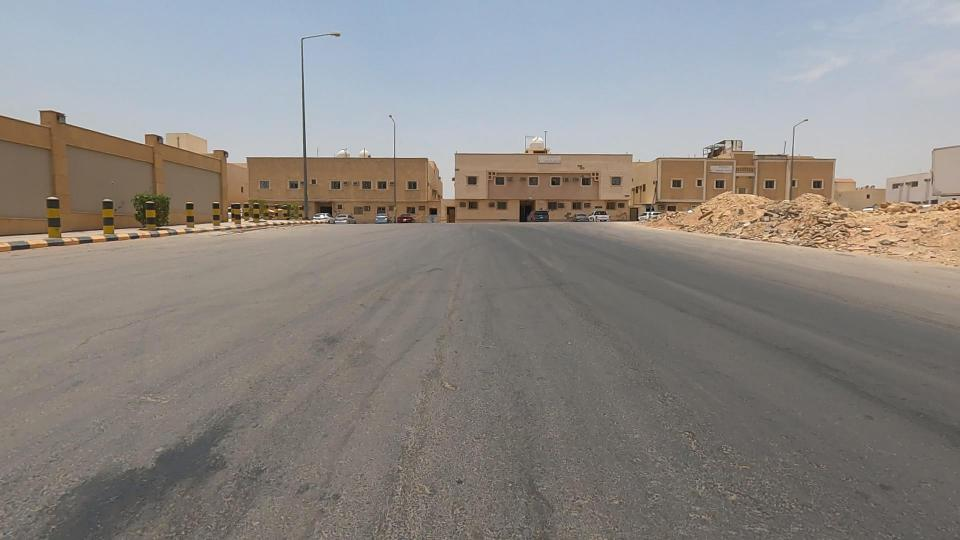SAND_ON_ROAD: (742, 145, 831, 264), (690, 166, 756, 243)
